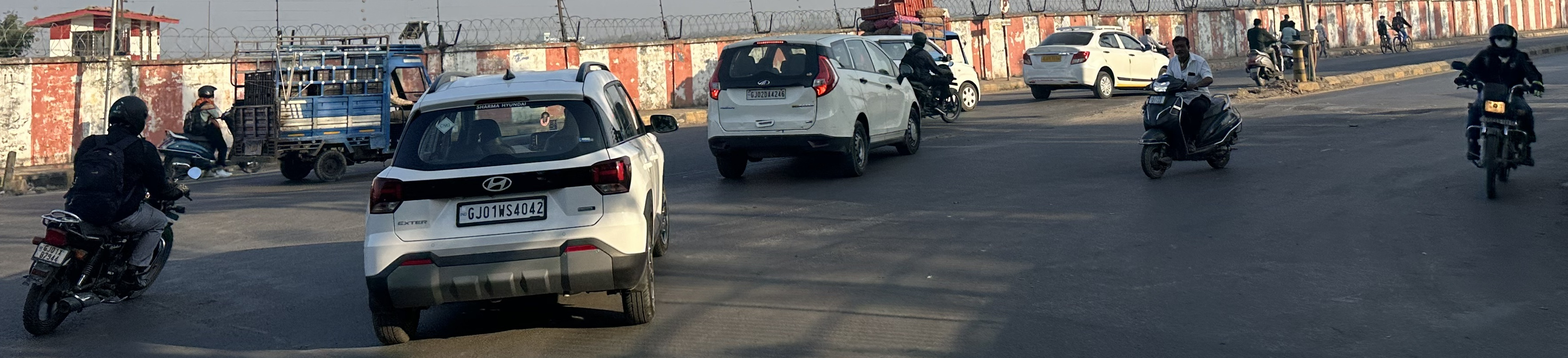BikeWithRider: (12, 88, 217, 341), (1442, 18, 1553, 205), (1129, 29, 1250, 182)
Helmet: (96, 90, 159, 140), (1479, 20, 1525, 52)
NoHelmet: (1167, 31, 1200, 61)
